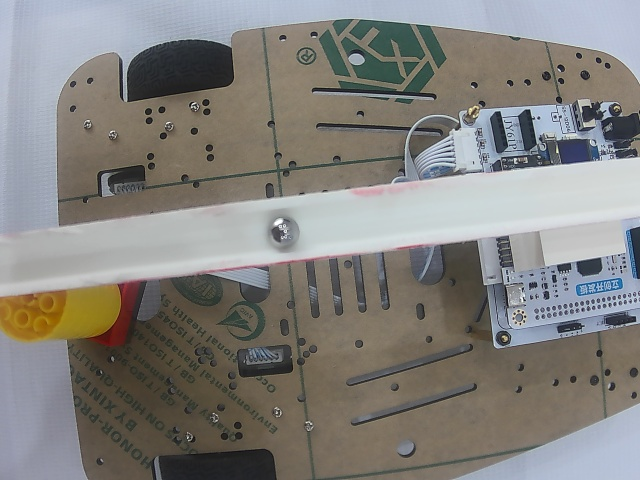steelball: (270, 215, 298, 247)
